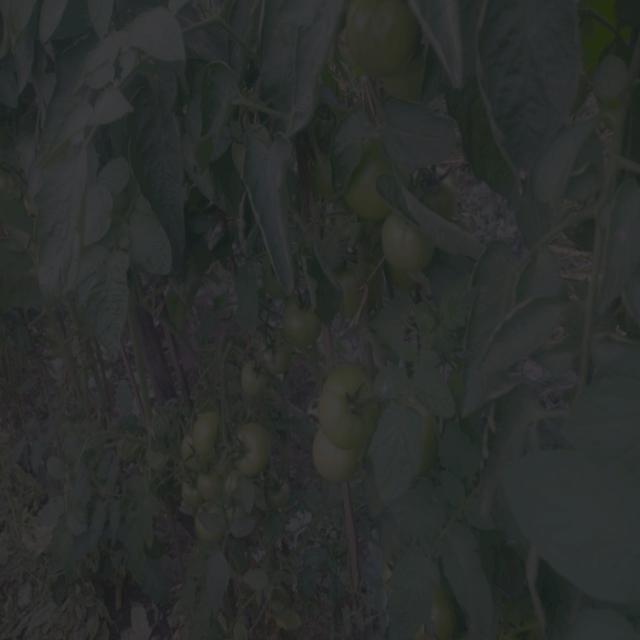tomato: (339, 1, 422, 76), (315, 362, 373, 443), (378, 210, 435, 279), (232, 429, 286, 486), (283, 304, 329, 353), (308, 437, 357, 482), (351, 164, 382, 219), (416, 167, 452, 207), (255, 340, 293, 376), (192, 408, 224, 445), (440, 598, 464, 640), (232, 364, 263, 391), (199, 473, 222, 500)
